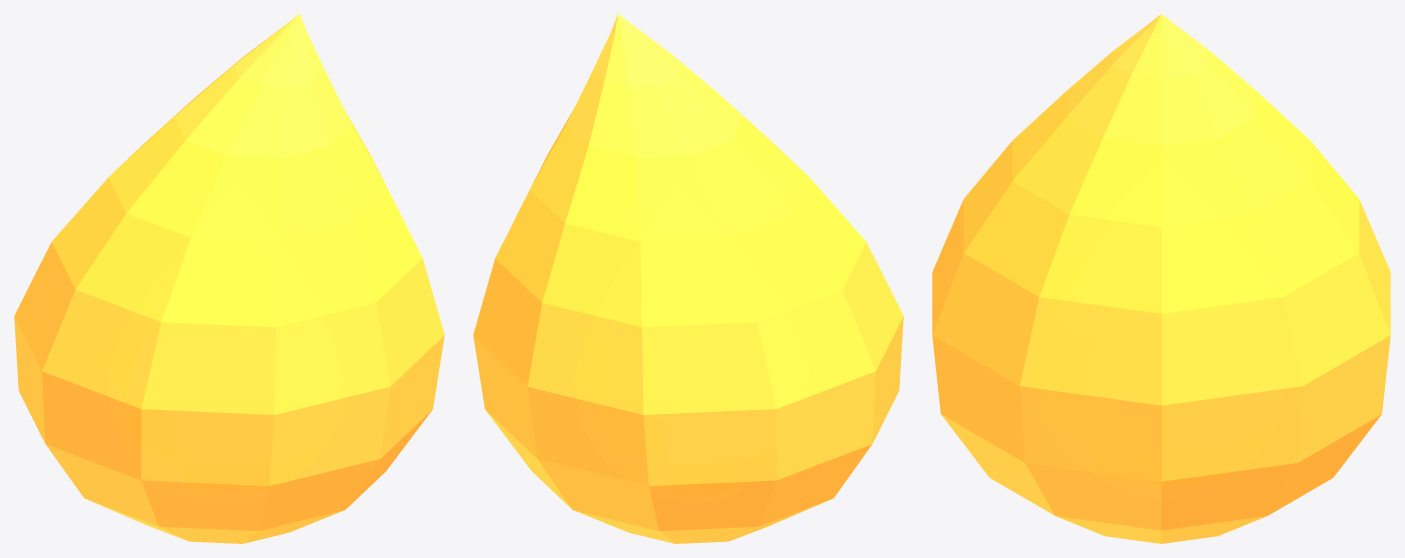
File: fire.glb
3 views of the same model, side by side, from view 1: azimuth 30°, elevation 25°; view 2: azimuth 150°, elevation 25°; view 3: azimuth 270°, elevation 25° (orthographic). The views are drawn at different scales.
Visible parts, largest first — view 1: FlameOuter, FlameInner; view 2: FlameOuter, FlameInner; view 3: FlameOuter, FlameInner.
Boxes of the visible parts, x1,y1,x2,y2 form: FlameOuter: (14, 14, 444, 543); FlameInner: (108, 186, 343, 503); FlameOuter: (473, 14, 903, 543); FlameInner: (575, 189, 807, 502); FlameOuter: (932, 14, 1390, 543); FlameInner: (1039, 158, 1286, 496).
Bounding box in the file's own units: 0.8 × 1 × 0.7608.
